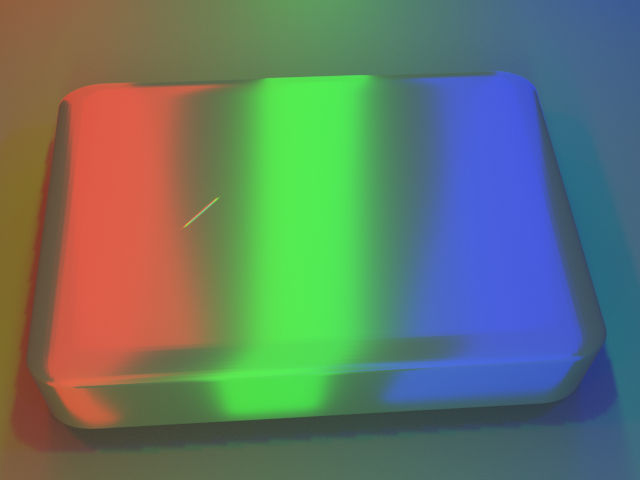scratch: (95, 161, 274, 261)
